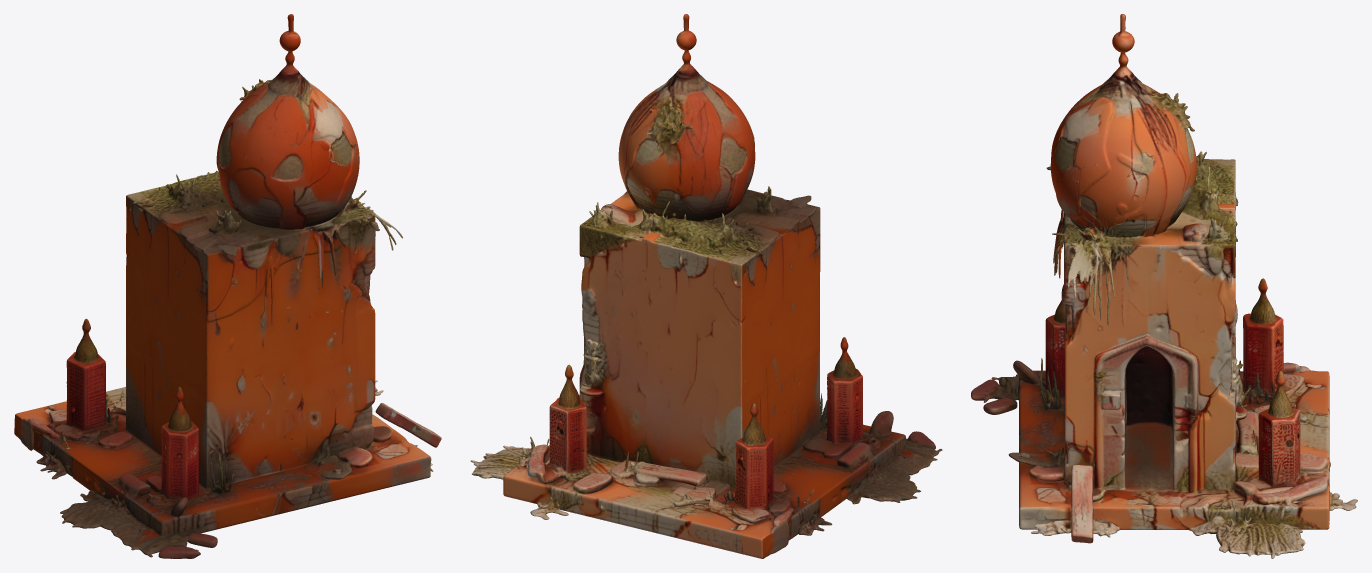
Rendered from orange-temple-ruin.glb.
3 views of the same model, side by side, from view 1: azimuth 30°, elevation 25°; view 2: azimuth 150°, elevation 25°; view 3: azimuth 270°, elevation 25° (orthographic). The views are drawn at different scales.
Parts seen in each view (by area): view 1: tripo_node_46763f13-7f4f-4627-b2bb-9d711f26f3dd; view 2: tripo_node_46763f13-7f4f-4627-b2bb-9d711f26f3dd; view 3: tripo_node_46763f13-7f4f-4627-b2bb-9d711f26f3dd.
Boxes of the visible parts, box(x1,y1,x2,y2) form: tripo_node_46763f13-7f4f-4627-b2bb-9d711f26f3dd: box(14, 14, 441, 558); tripo_node_46763f13-7f4f-4627-b2bb-9d711f26f3dd: box(470, 14, 942, 558); tripo_node_46763f13-7f4f-4627-b2bb-9d711f26f3dd: box(971, 14, 1357, 558).
Size of the model in its own units: 0.8942 by 1 by 0.7435.
Materials: 1 (1 with a texture image).
